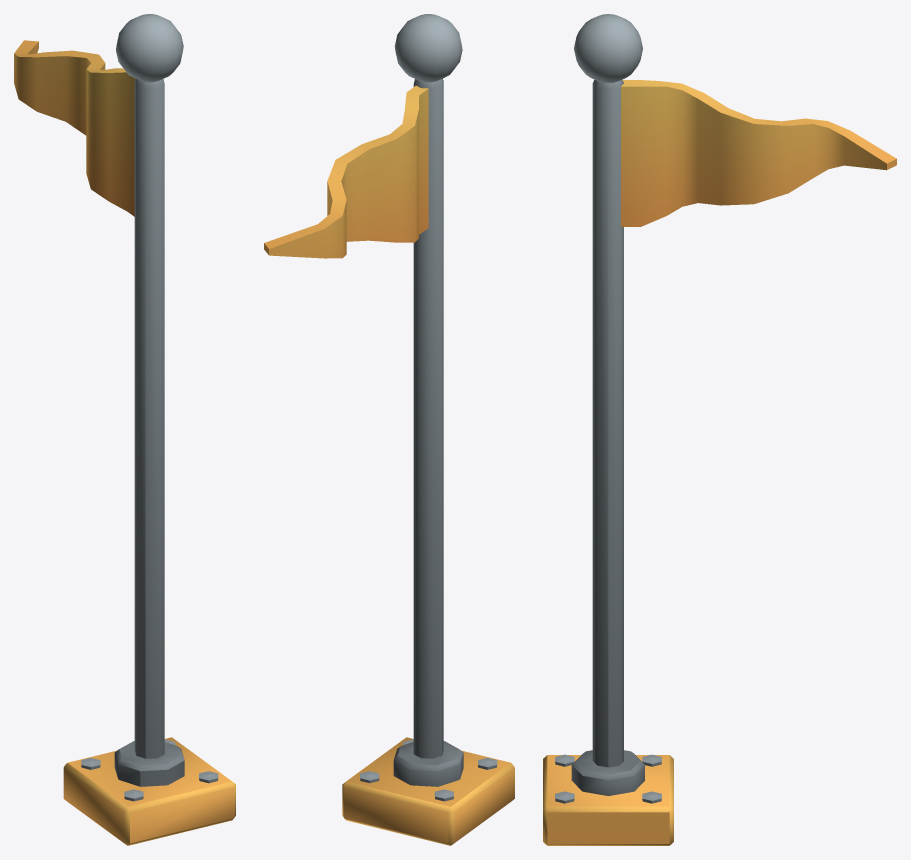
The model's file is flag_C_yellow.glb.
3 renders of one model, left to right at view 1: azimuth 30°, elevation 25°; view 2: azimuth 150°, elevation 25°; view 3: azimuth 270°, elevation 25°, orthographic.
Parts seen in each view (by area): view 1: flag_C_yellow; view 2: flag_C_yellow; view 3: flag_C_yellow.
Boxes of the visible parts, x1,y1,x2,y2 form: flag_C_yellow: [14, 14, 235, 845]; flag_C_yellow: [264, 14, 514, 845]; flag_C_yellow: [543, 14, 896, 845].
Bounding box in the file's own units: 0.6 × 4.06 × 1.62.
Materials: 1 (1 with a texture image).
